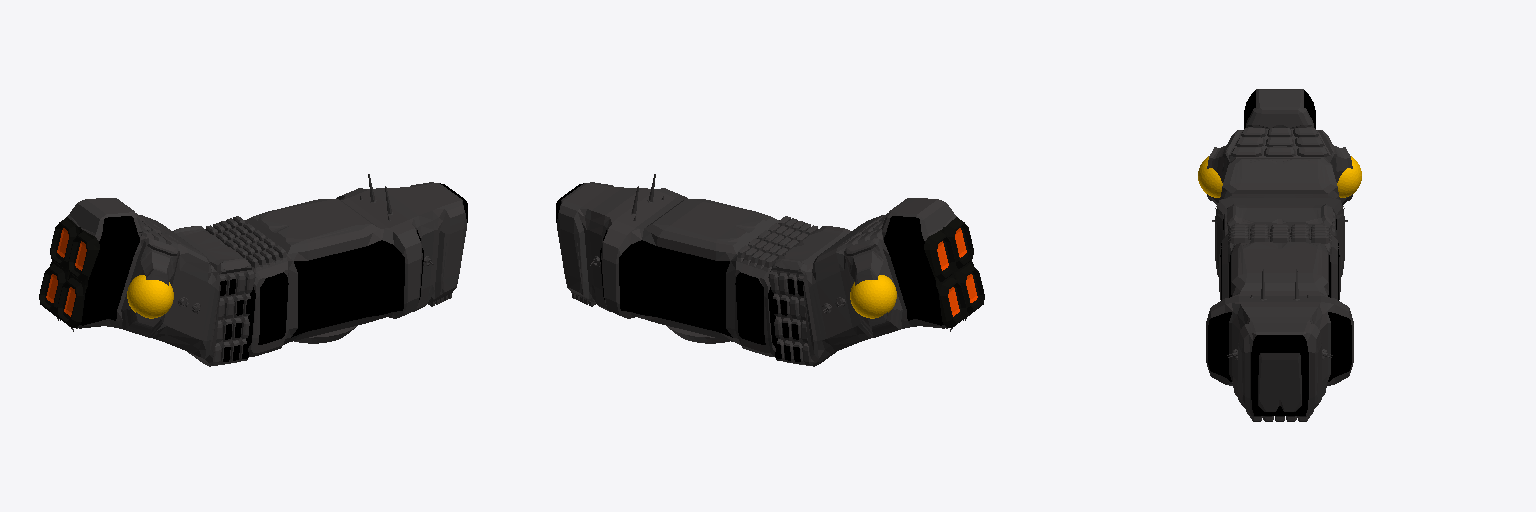
Rendered from SpaceShip01.obj.
The picture shows the model from 3 angles: view 1: azimuth 30°, elevation 25°; view 2: azimuth 150°, elevation 25°; view 3: azimuth 270°, elevation 25°; orthographic projection.
Parts seen in each view (by area): view 1: Spaceship; view 2: Spaceship; view 3: Spaceship.
Part boxes in pixels (x1,y1,x2,y2): Spaceship: (39,174,467,366); Spaceship: (556,174,984,366); Spaceship: (1198,89,1361,421).
Size of the model in its own units: 4.23 by 1.76 by 1.48.